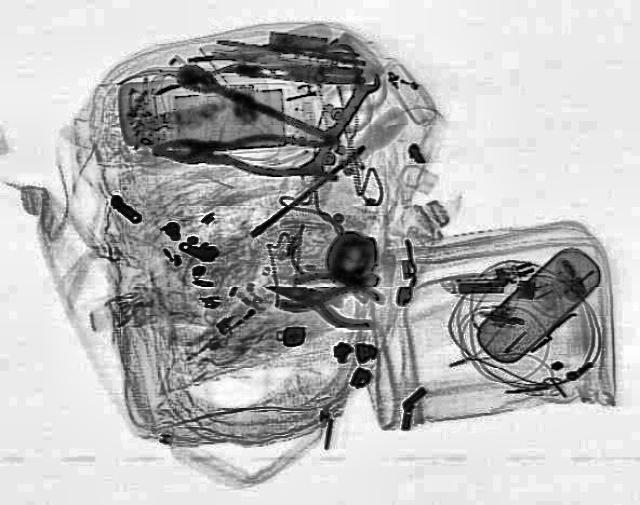Pliers: (150, 126, 340, 180), (256, 265, 384, 333), (269, 264, 381, 310)
Wrench: (290, 68, 384, 180)
